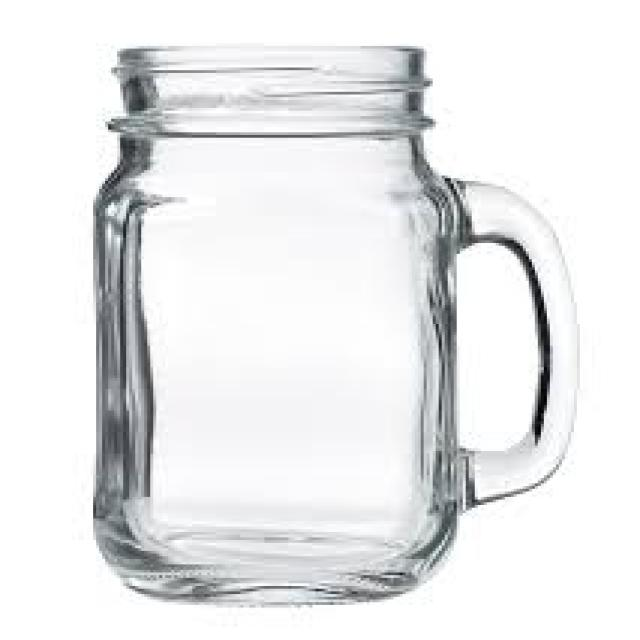glass: (90, 46, 574, 610)
